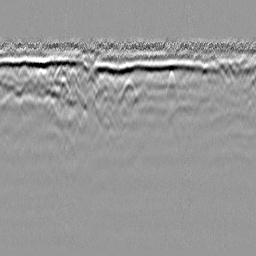cavity: (119, 77, 137, 102)
